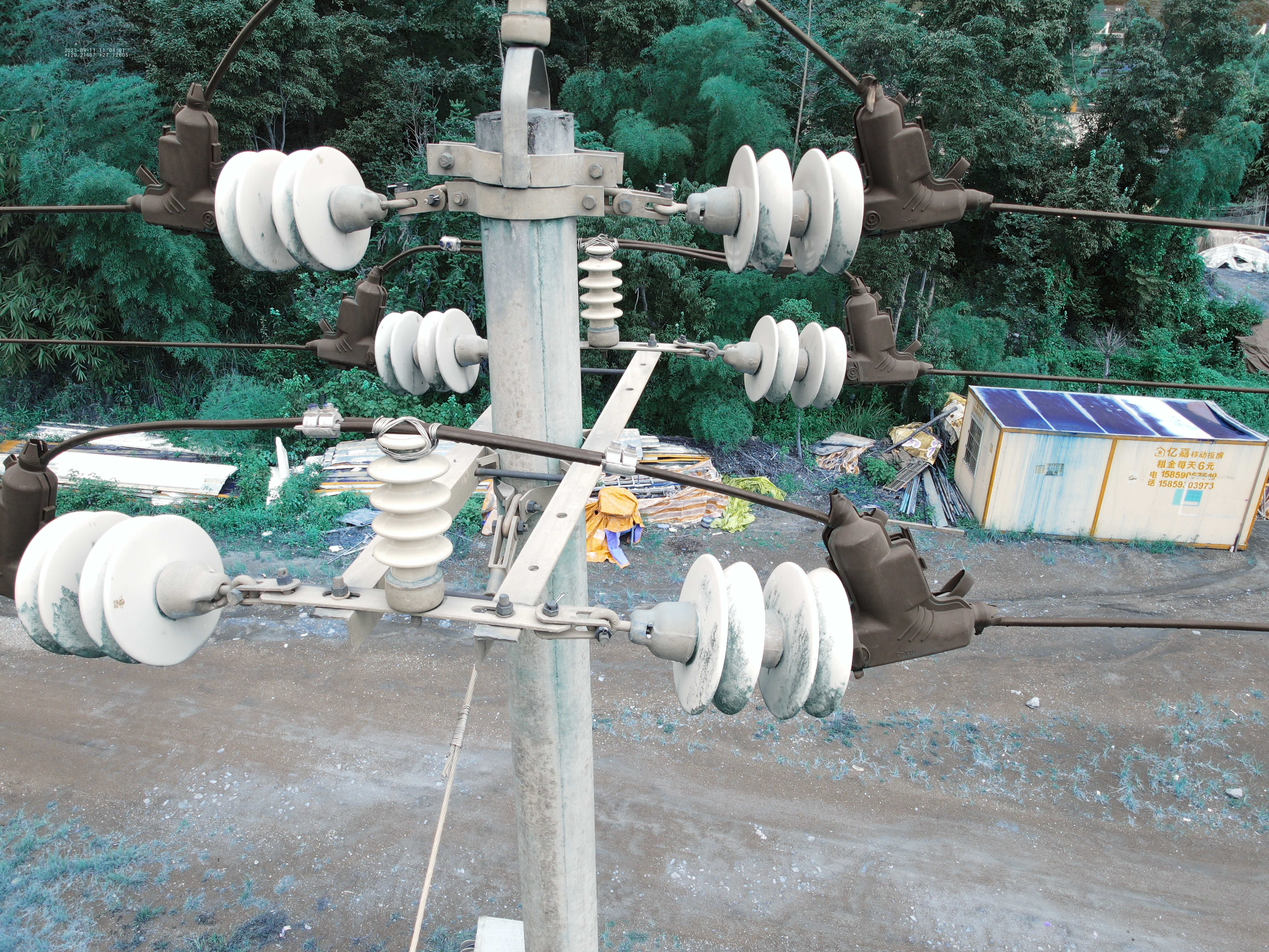severe_soiling_no_discharge_whole: (625, 551, 855, 724), (12, 509, 231, 668), (682, 144, 864, 278), (210, 143, 388, 275), (721, 314, 849, 412), (372, 304, 490, 398)
